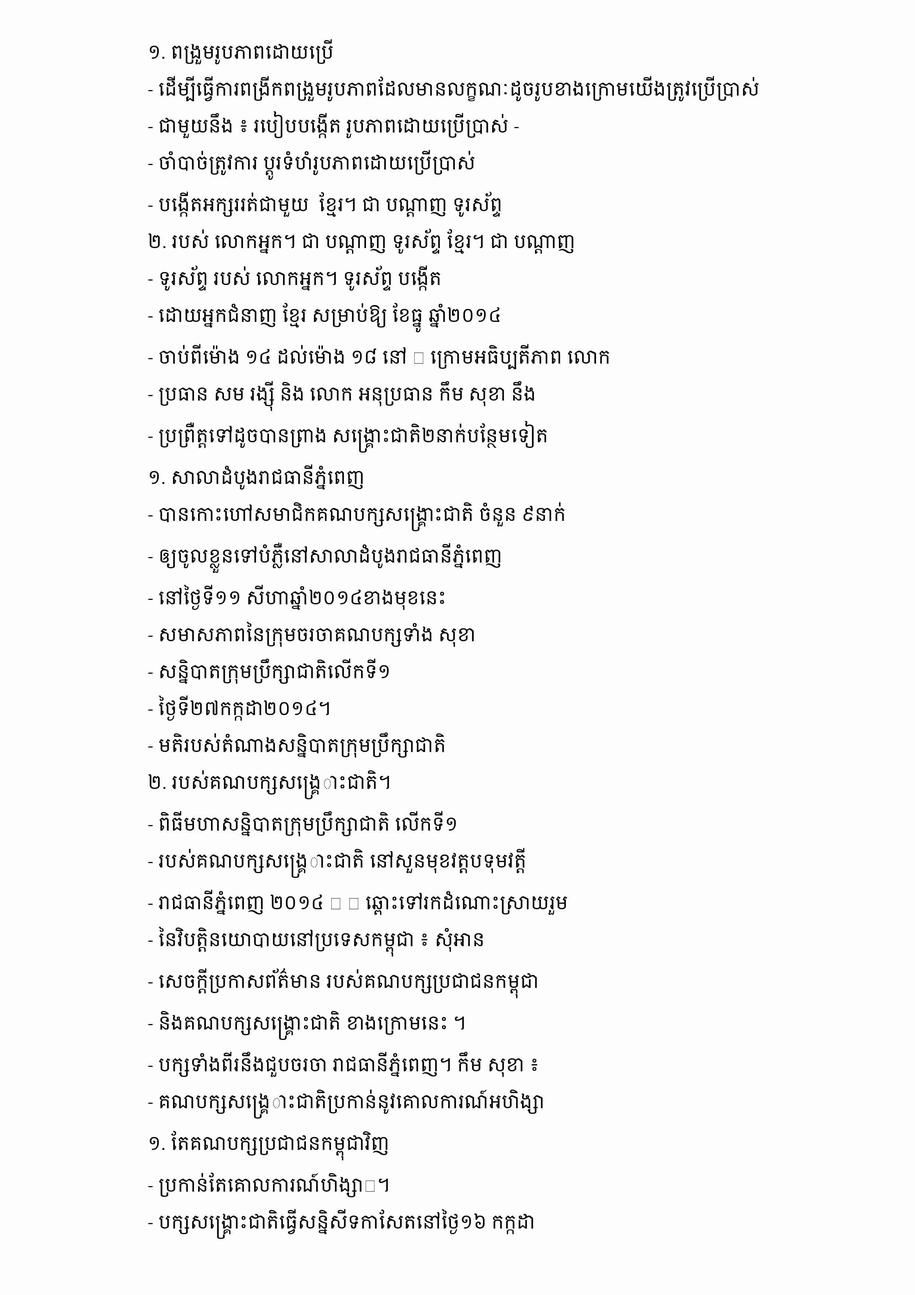text: (148, 76, 764, 102), (148, 421, 553, 453), (148, 502, 571, 532), (148, 968, 544, 999), (148, 344, 615, 370), (148, 1089, 550, 1119), (148, 381, 541, 411), (148, 1209, 540, 1239), (148, 848, 531, 878), (148, 229, 580, 254), (148, 543, 507, 573), (148, 303, 506, 333), (148, 890, 573, 915), (148, 927, 490, 957), (148, 111, 525, 138), (148, 150, 480, 180), (148, 1052, 544, 1077), (148, 1011, 471, 1040), (148, 192, 507, 217), (148, 622, 481, 647), (148, 811, 463, 837), (148, 732, 451, 758), (148, 265, 447, 291), (148, 585, 451, 610), (148, 770, 396, 800), (148, 1131, 394, 1161), (148, 1172, 395, 1198), (148, 659, 396, 684), (148, 464, 370, 490), (148, 39, 339, 65), (148, 695, 336, 721)
